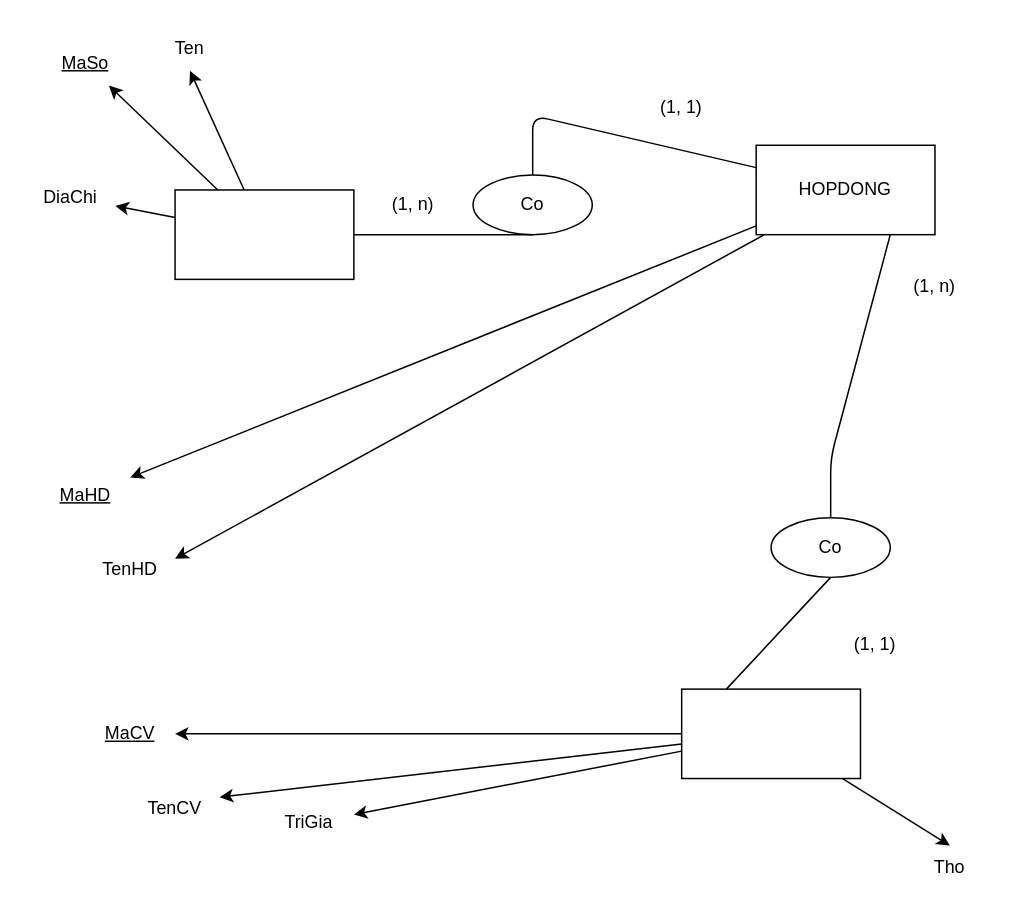
Some shapes in this 1019 by 915 pixel diagram are drawn without their labels. Here are the shapes that lost their labels. From the top down, the centre of each, then its label:
[264,233]: KHACHHANG
[770,733]: CONGVIEC
